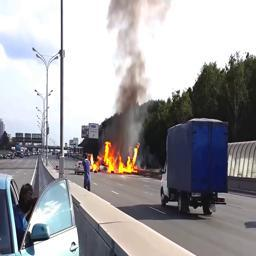fire: (91, 142, 140, 173)
